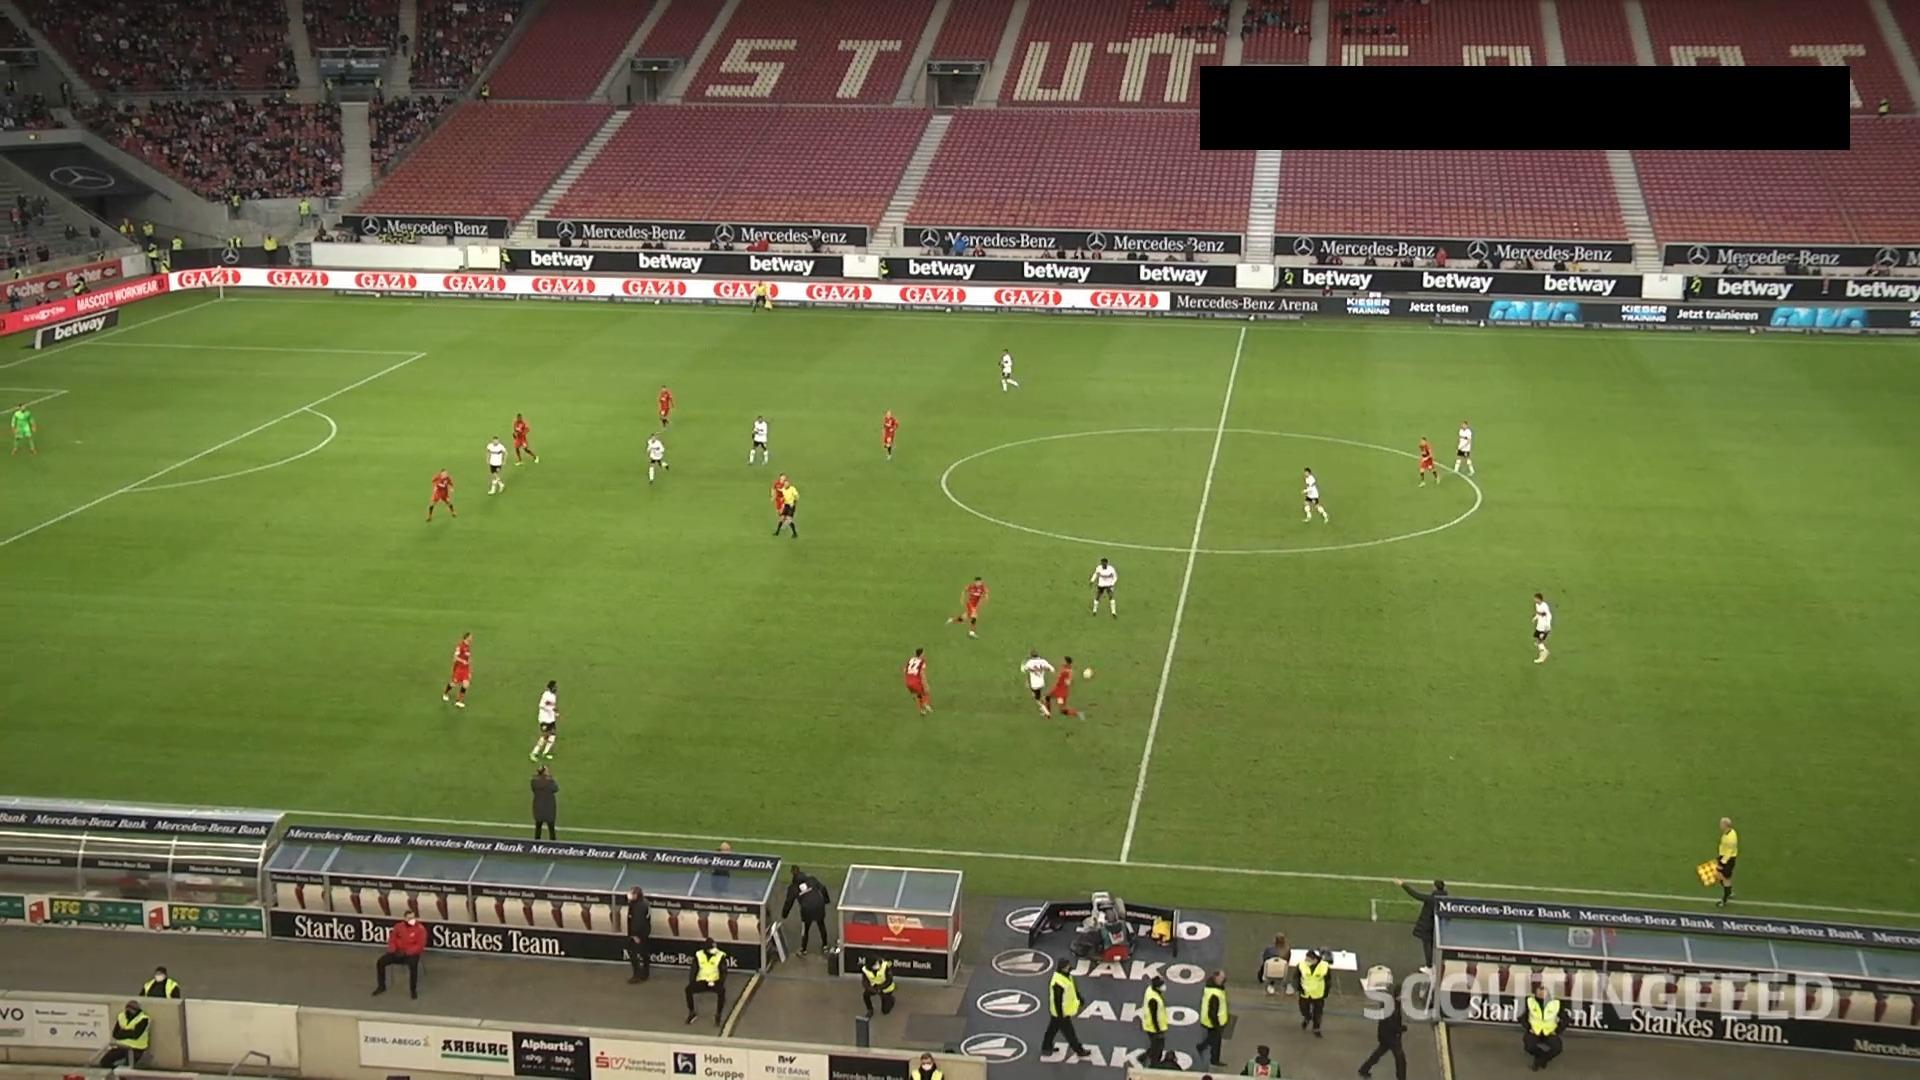ball: (1081, 666, 1095, 680)
